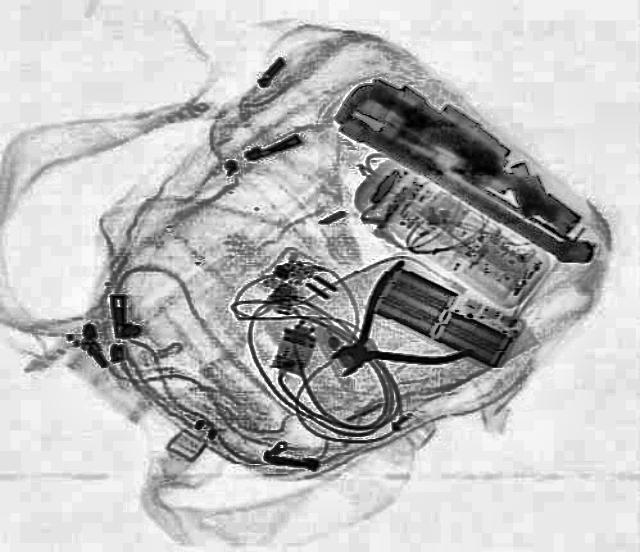Pliers: (292, 258, 486, 410)
